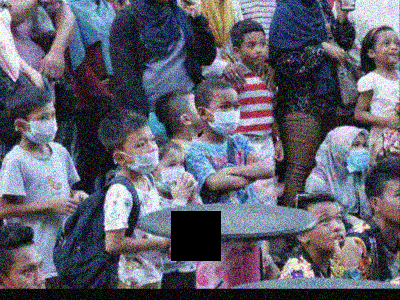mask_weared_incorrect: (122, 131, 159, 174)
with_mask: (23, 106, 58, 144), (206, 98, 240, 136), (153, 156, 185, 193), (344, 138, 370, 171)
without_mask: (303, 209, 348, 251), (2, 254, 45, 288), (240, 35, 266, 64), (372, 38, 398, 66)
